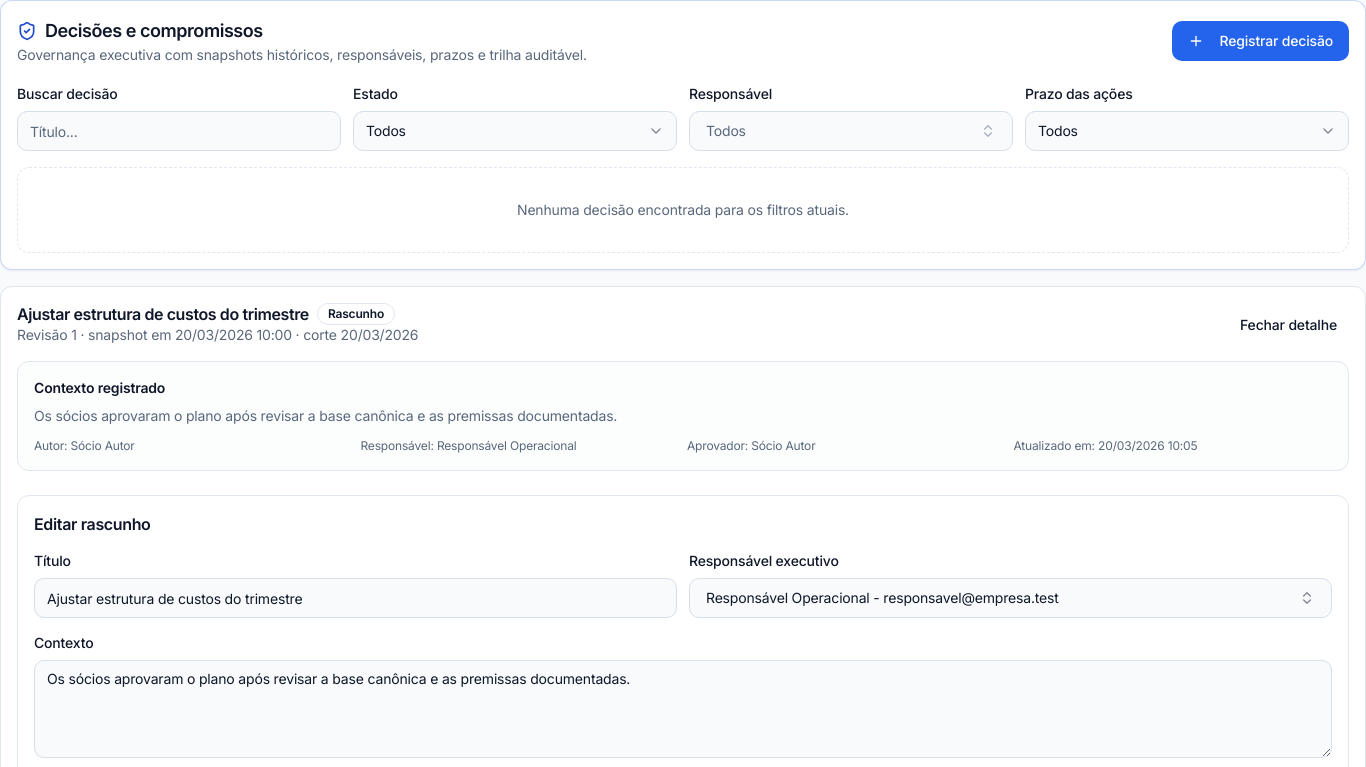
it: governança executiva da Apresentação Sócios › preserva edição local e oferece resolução consciente em conflito otimista
Replace the text in the field labelled "Título" with "Título local ainda não aplicado" at (356, 598), box [34,578,677,618]
(page scrolled)
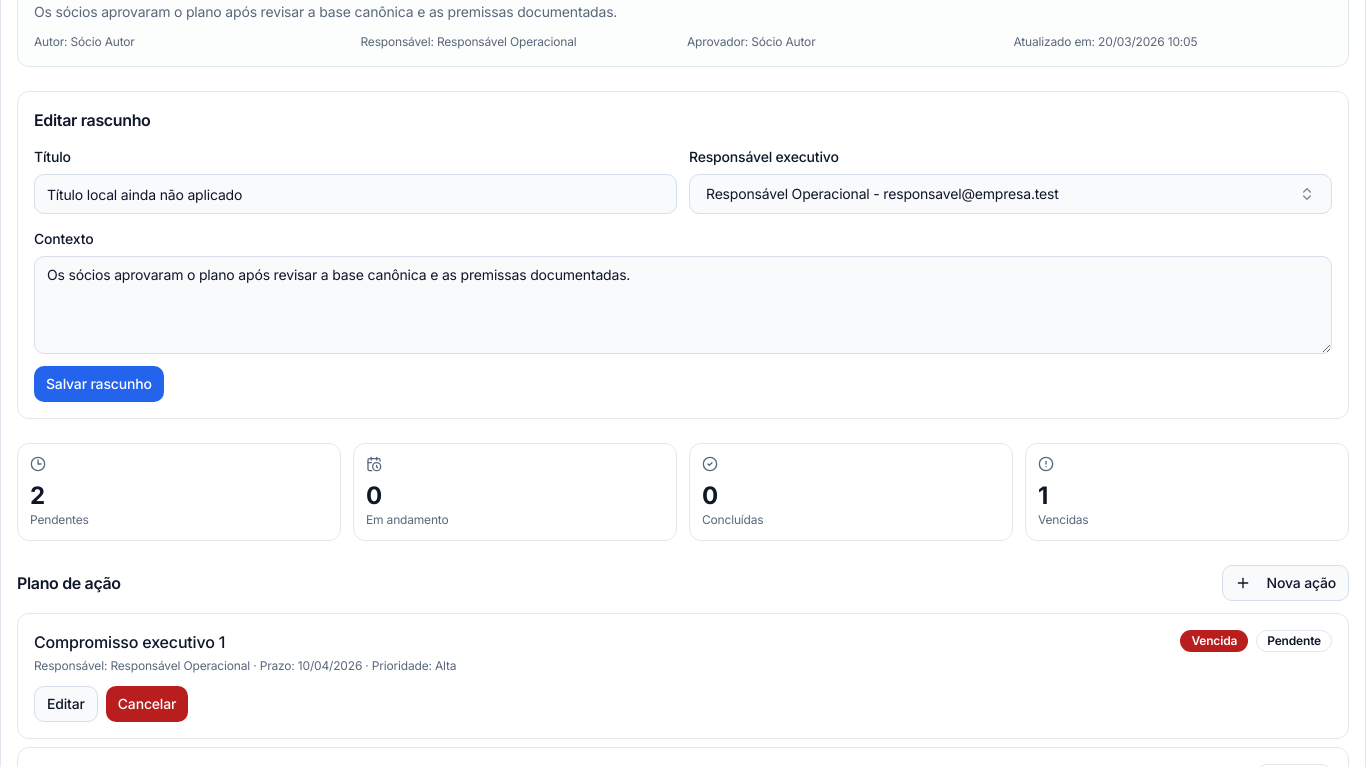
Click the button "Salvar rascunho" at (99, 384), box [34,366,164,402]
(page scrolled)
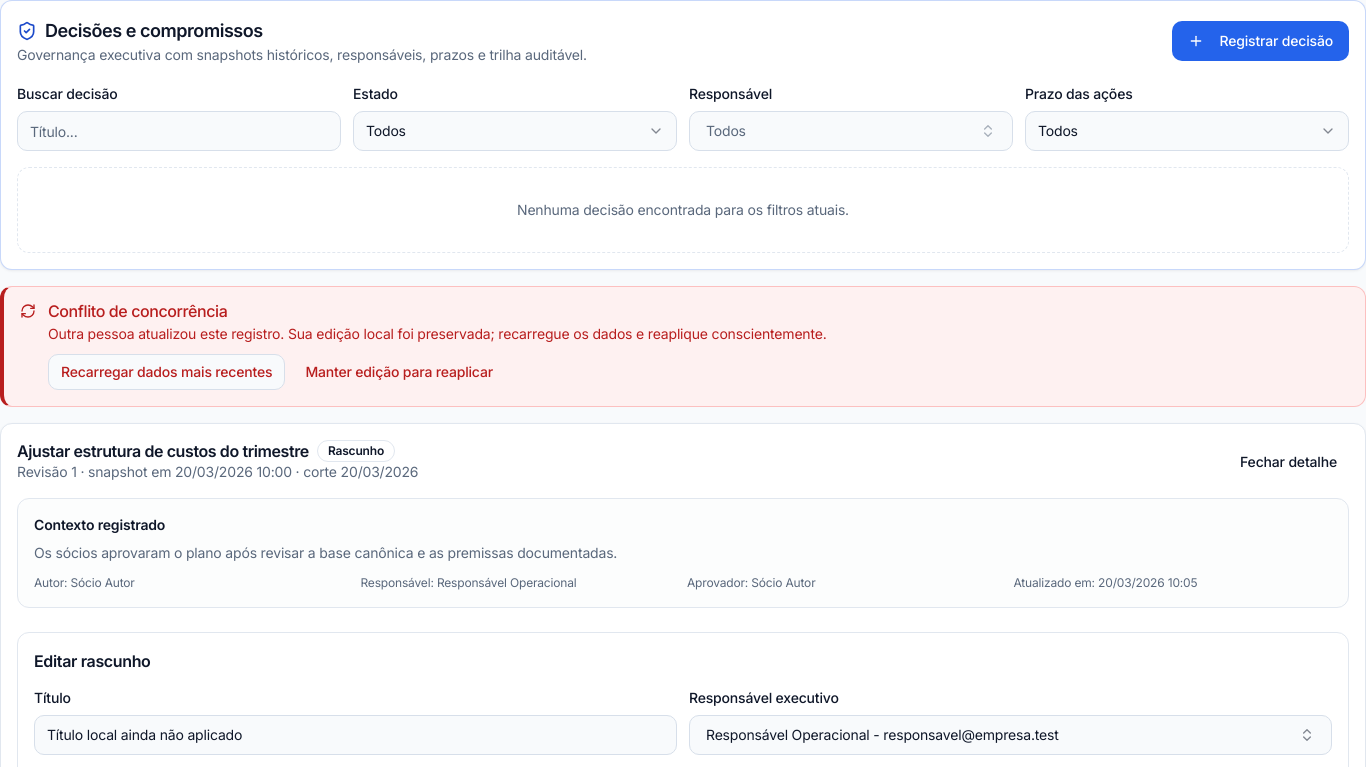
Expected: the heading "Conflito de concorrência" is shown, [48,301,227,321]
Expected: the button "Recarregar dados mais recentes" is shown, [48,354,285,390]
Expected: the button "Manter edição para reaplicar" is shown, [293,354,505,390]
